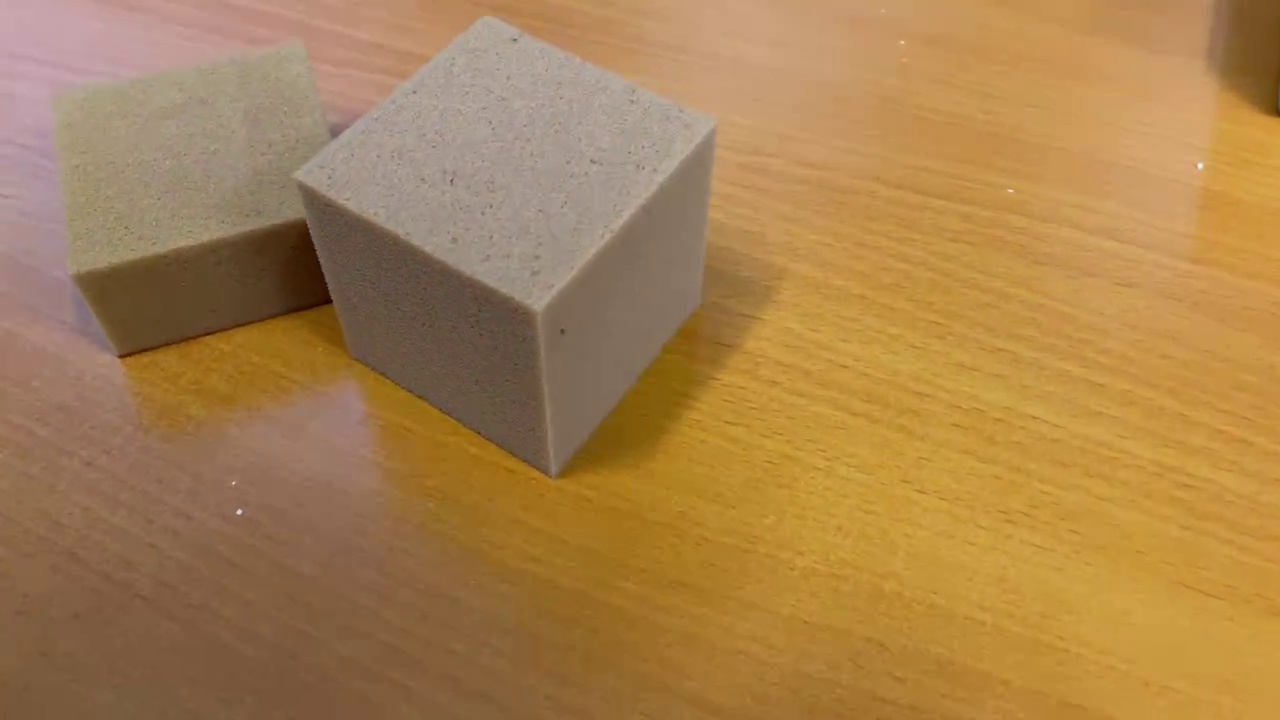Cube: (282, 7, 724, 486)
Cube_short: (52, 38, 333, 365)
